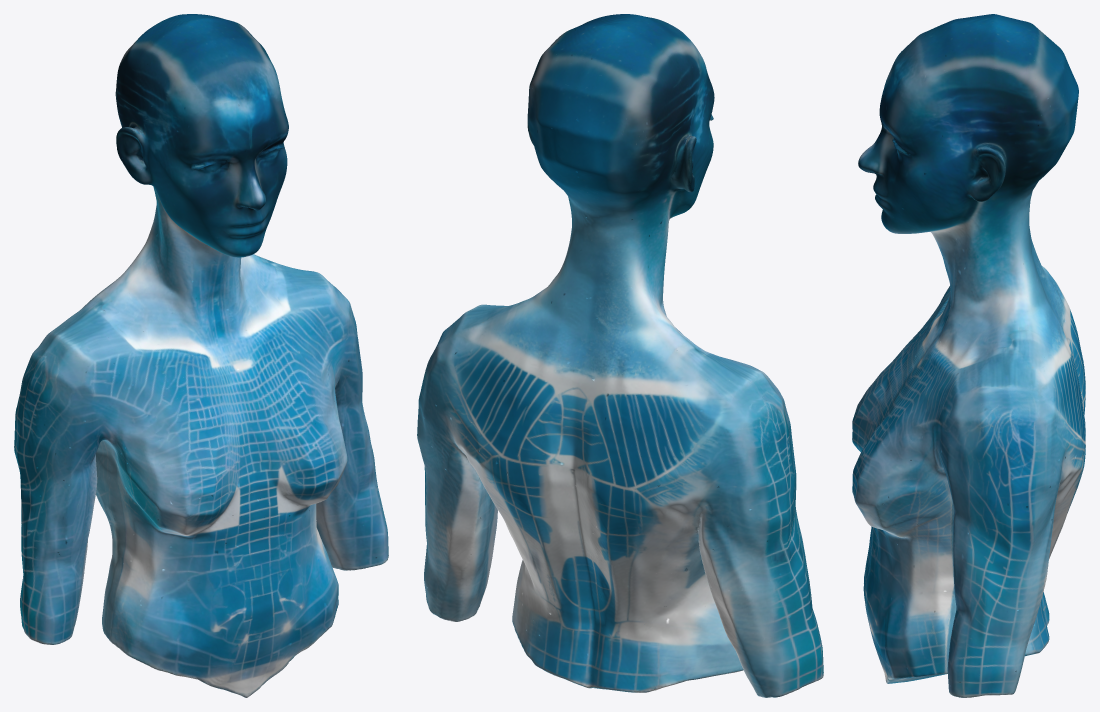
File: kena-3d-model.glb
3 views of the same model, side by side, from view 1: azimuth 30°, elevation 25°; view 2: azimuth 150°, elevation 25°; view 3: azimuth 270°, elevation 25° (orthographic). The views are drawn at different scales.
Size of the model in its own units: 1.18 by 2 by 0.6402.
Materials: 1 (1 with a texture image).
